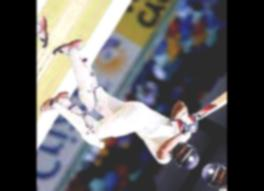batsman: (41, 34, 220, 158)
